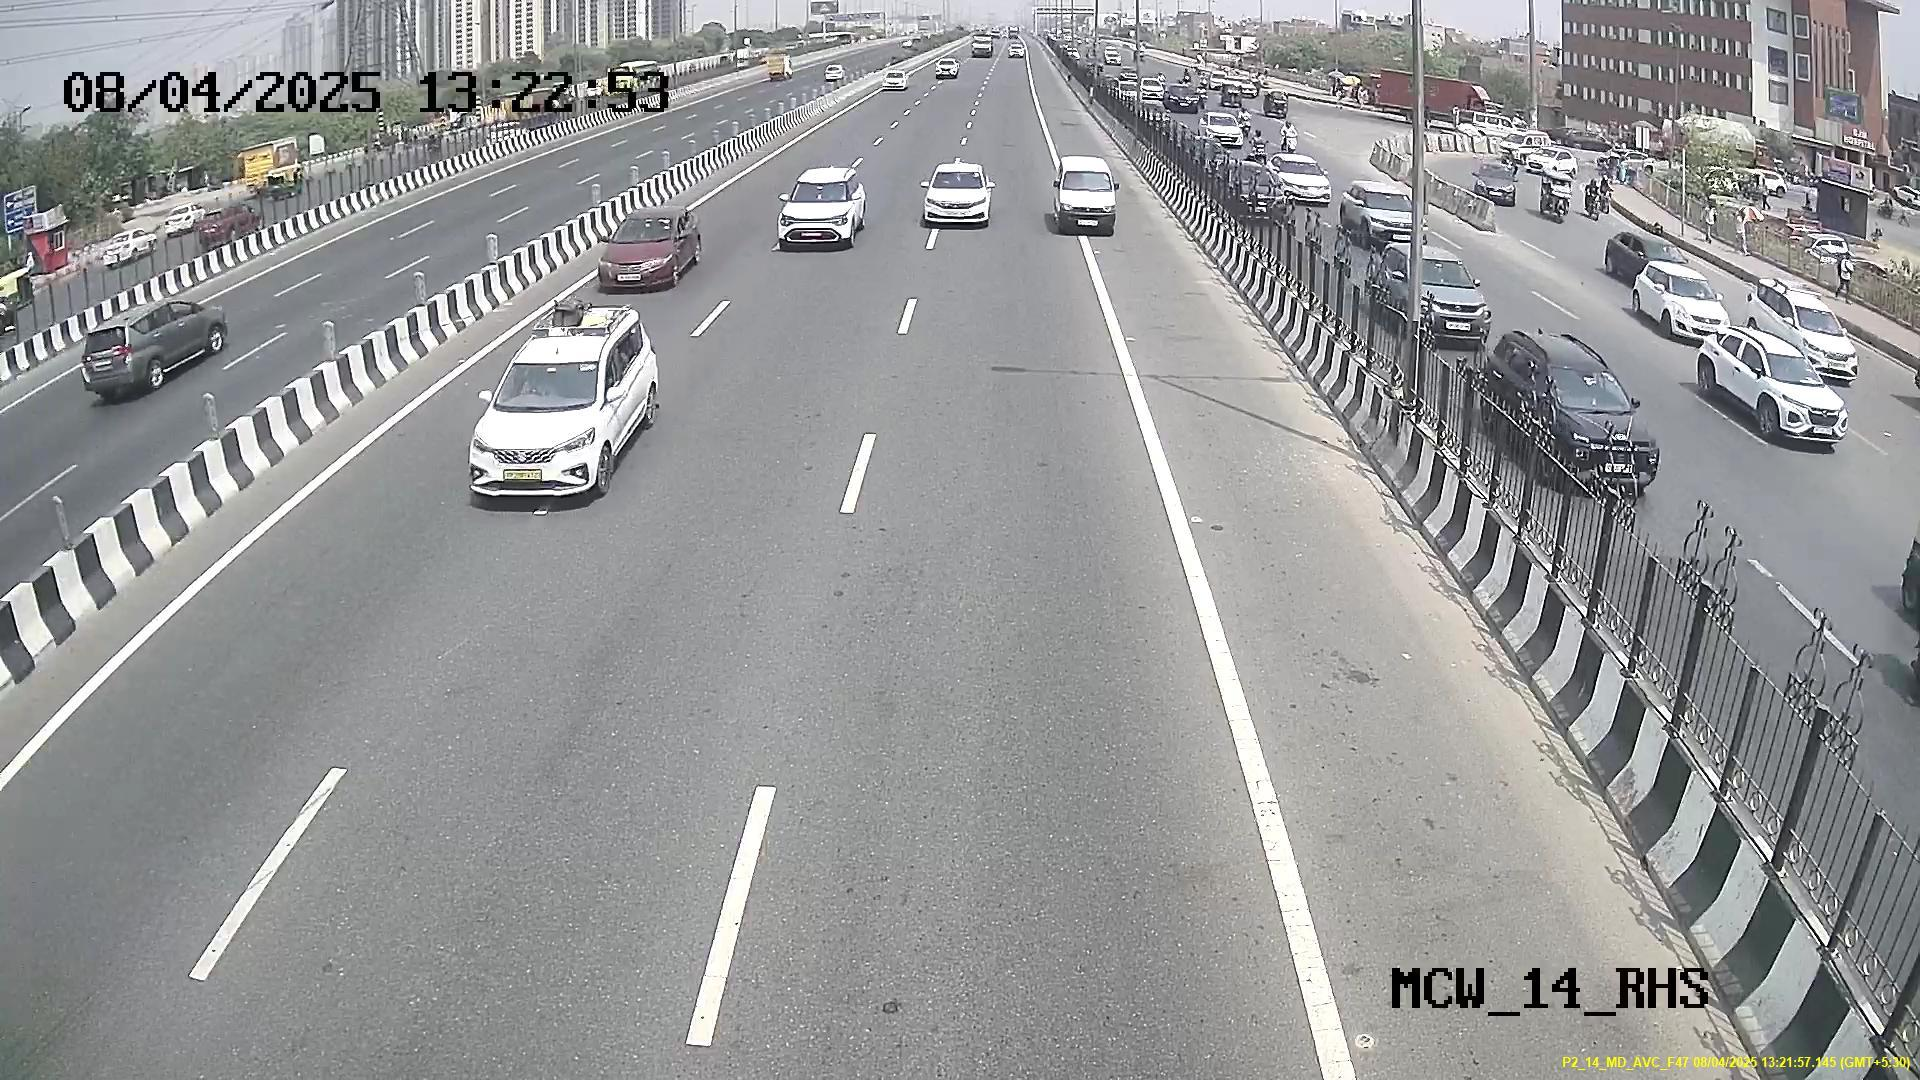car: (467, 323, 636, 508), (592, 204, 698, 290), (777, 166, 861, 253), (1044, 150, 1125, 237), (920, 158, 994, 237)
